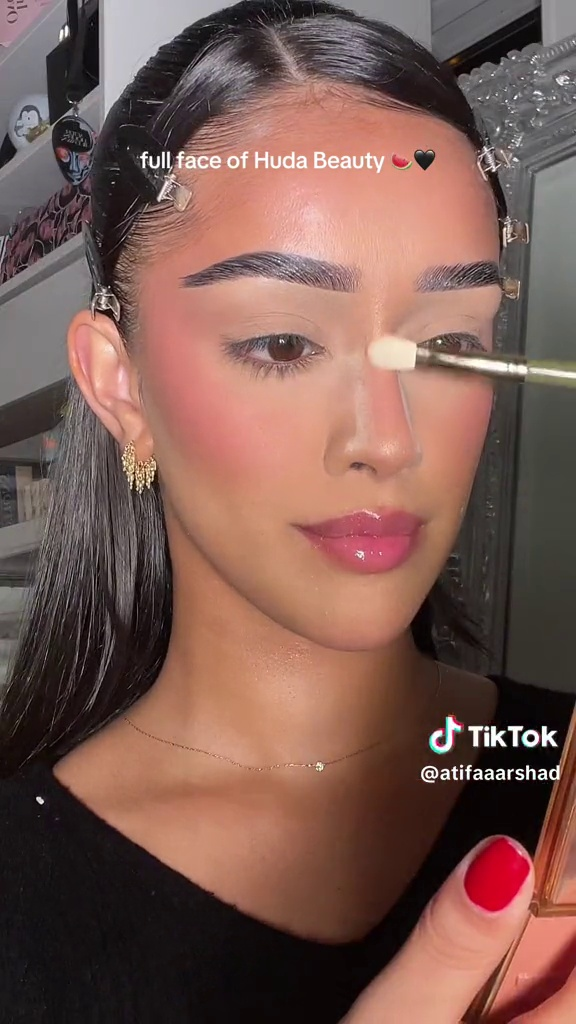train' :'yolo_data/train/images',: (358, 333, 575, 408)
